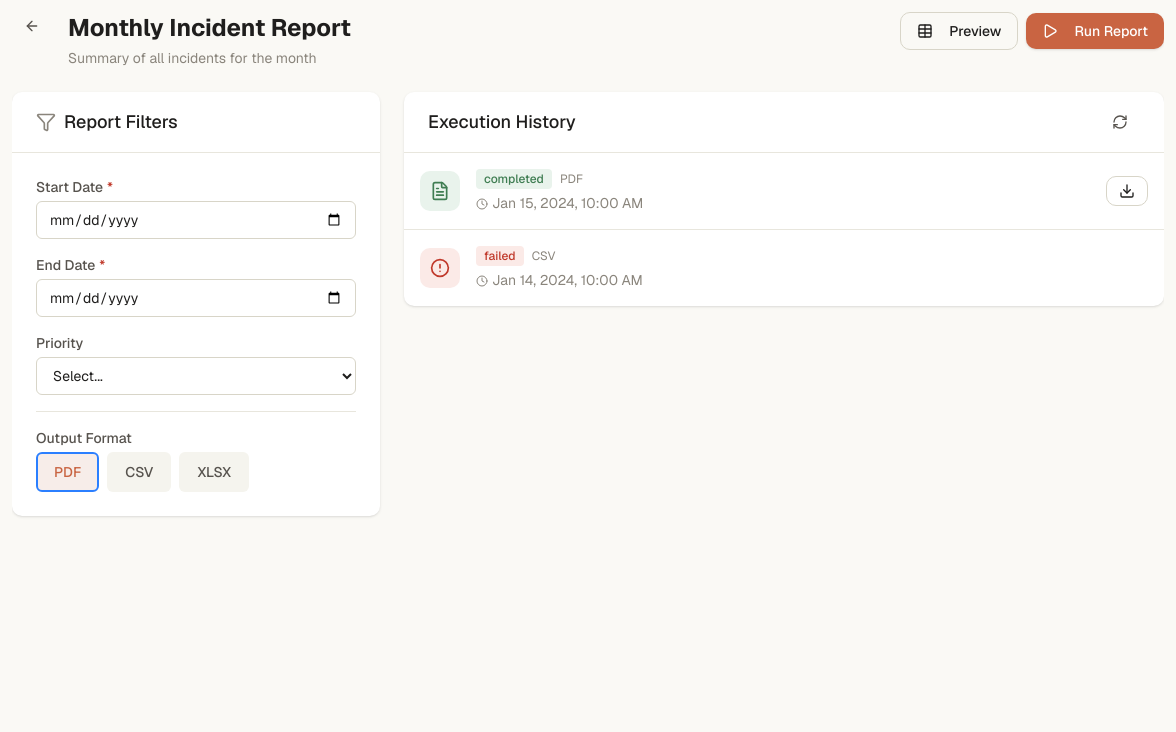
Test case: ReportExecutionPage › Preview Functionality › shows empty message when no preview data
The image size is (1176, 732).
Click the button "Preview": (959,31) [900,12,1018,50]
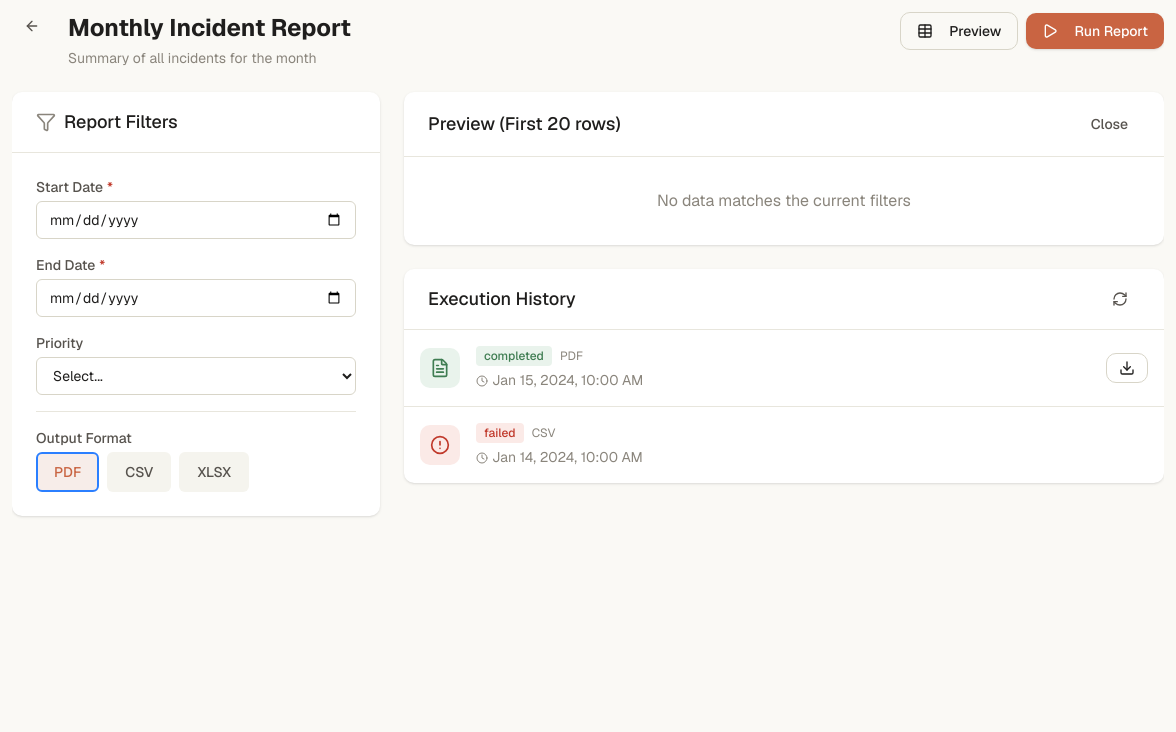
Now the text "No data matches the current filters" is shown, box [657,190,911,211]
